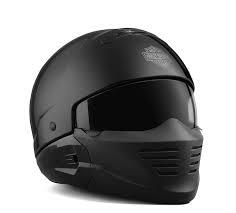helmet: (27, 26, 214, 206)
